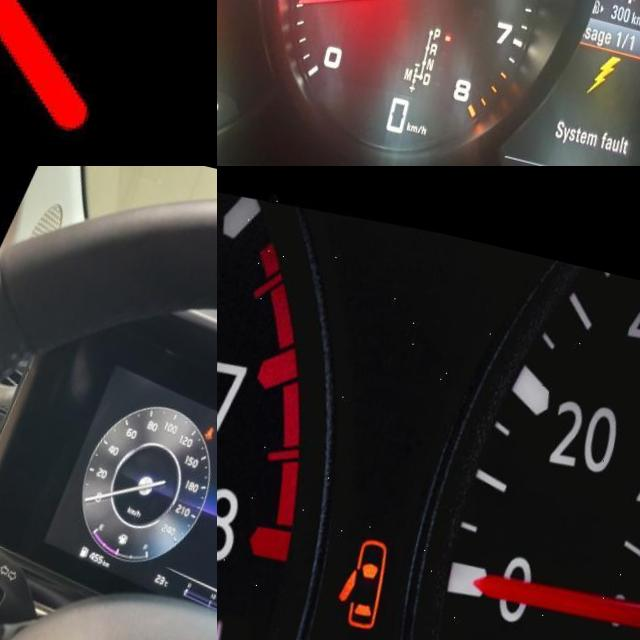Low beam: (217, 28, 225, 54)
